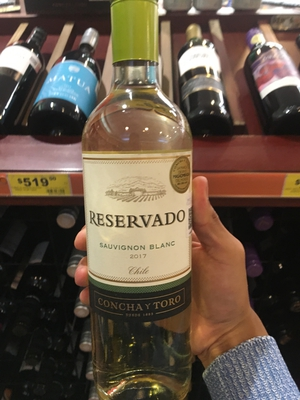reservado sauvignon blanc: (81, 5, 202, 398)
